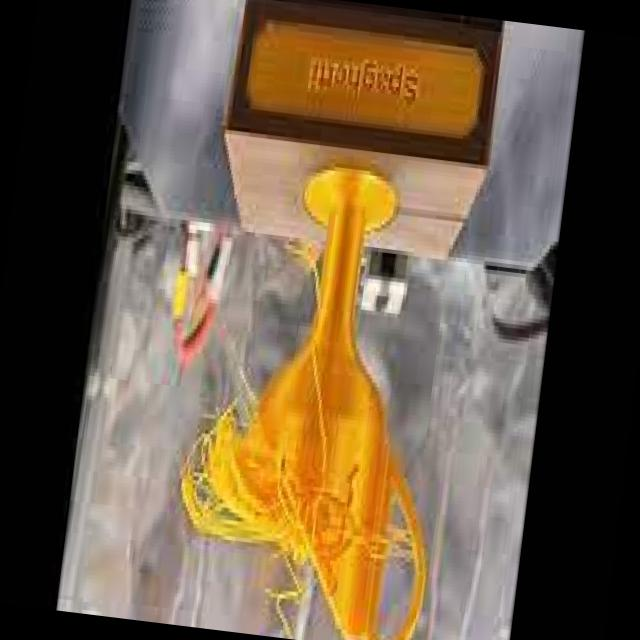spaghetti: (166, 390, 331, 628), (314, 501, 421, 576)
